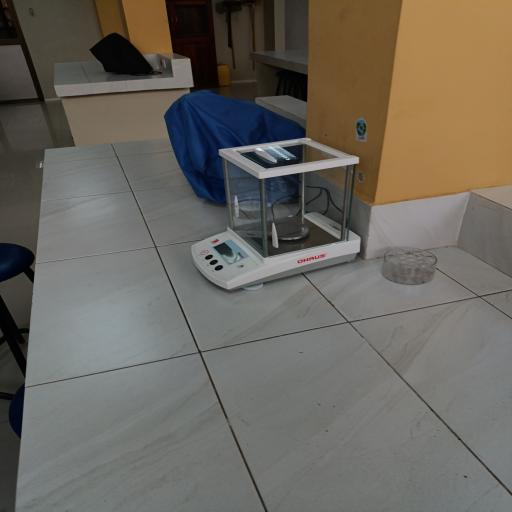Balanza_Analitica_Ohaus: (183, 132, 377, 300)
